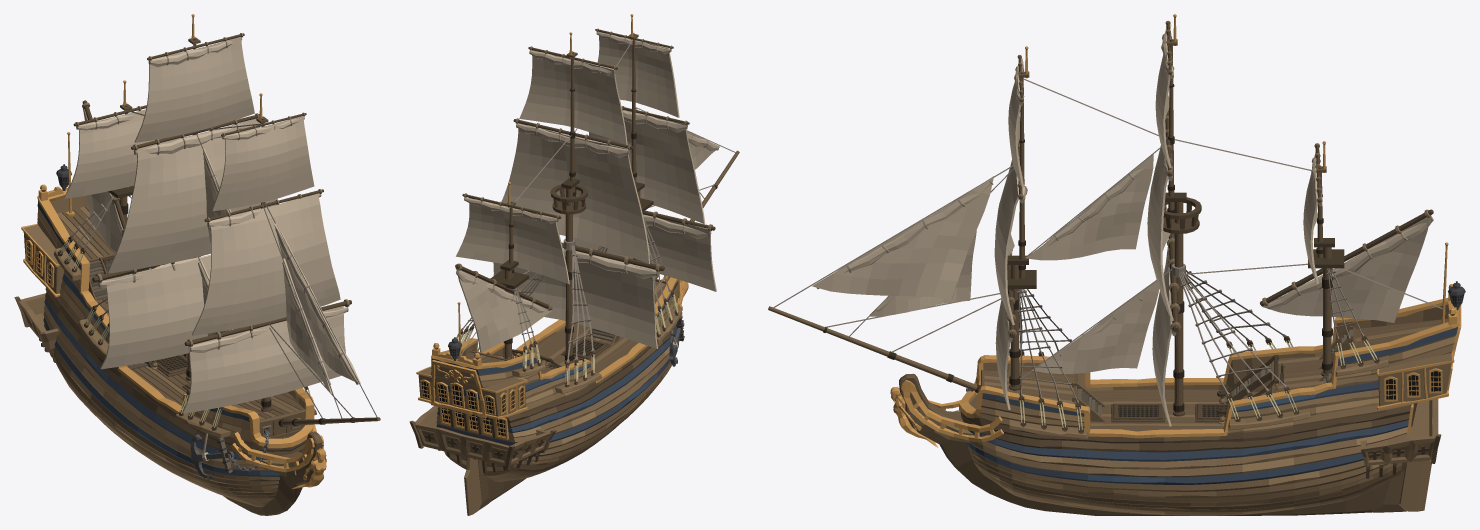
The model's file is SM_Veh_Boat_Warship_01_Hull_Upsized.glb.
The picture shows the model from 3 angles, left to right: view 1: azimuth 30°, elevation 25°; view 2: azimuth 150°, elevation 25°; view 3: azimuth 270°, elevation 25°; orthographic projection. The views are drawn at different scales.
Visible parts, largest first — view 1: mesh_id5, node_id18, node_id14, node_id28, node_id10, node_id22, node_id8, node_id24, node_id30, node_id6, node_id20; view 2: mesh_id5, node_id18, node_id14, node_id28, node_id10, node_id24, node_id8, node_id6, node_id22; view 3: mesh_id5, node_id22, node_id20, node_id24, node_id28, node_id6, node_id10, node_id18, node_id14, node_id8, node_id30.
Part boxes in pixels (x1,y1,x2,y2): mesh_id5: (14,132,380,515); node_id18: (100,37,277,369); node_id14: (182,116,345,413); node_id28: (64,109,180,252); node_id10: (92,14,259,380); node_id22: (274,223,360,393); node_id8: (184,93,351,411); node_id24: (57,110,377,430); node_id30: (198,153,358,384); node_id6: (73,80,146,276); node_id20: (200,148,233,335); mesh_id5: (409,150,739,515); node_id18: (493,50,657,348); node_id14: (573,31,716,291); node_id28: (456,198,569,352); node_id10: (513,32,664,363); node_id24: (456,40,735,387); node_id8: (595,14,715,266); node_id6: (455,182,561,359); node_id22: (687,131,719,169); mesh_id5: (768,242,1465,515); node_id22: (812,176,993,316); node_id20: (1026,154,1159,373); node_id24: (773,78,1442,433); node_id28: (1261,158,1430,322); node_id6: (1260,141,1433,376); node_id10: (1161,14,1201,416); node_id18: (1147,24,1173,426); node_id14: (994,59,1023,409); node_id8: (1005,46,1036,390); node_id30: (817,157,1149,356).
Bounding box in the file's own units: 0.2371 × 0.512 × 0.646.
14 materials, 14 textured.
